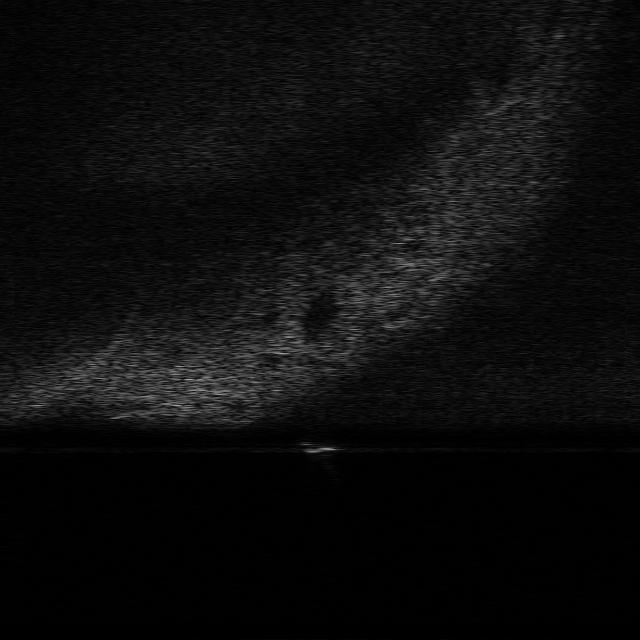cube: (296, 438, 345, 456)
